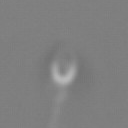normal: (41, 85, 72, 128)
